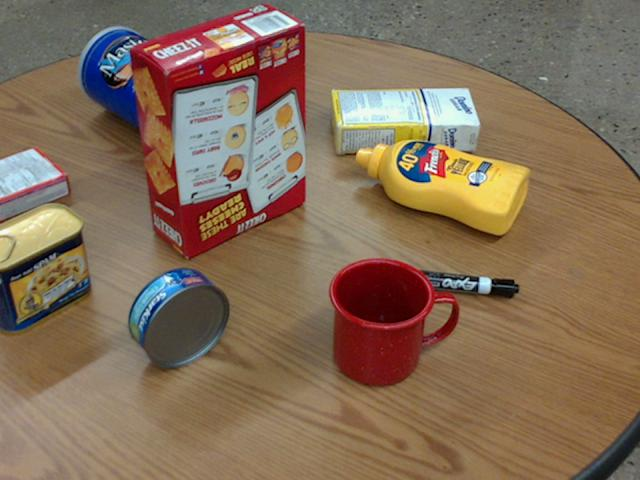cracker_box: (128, 6, 305, 258)
gelatin_box: (0, 147, 71, 221)
large_marker: (397, 267, 519, 297)
master_chef_can: (76, 27, 215, 147)
mug: (329, 256, 457, 386)
mustard_bottle: (354, 140, 529, 233)
potted_meat_can: (0, 204, 90, 335)
sugar_box: (330, 86, 481, 153)
tomato_soup_can: (244, 16, 297, 112)
tuna_fish_can: (128, 267, 229, 367)
